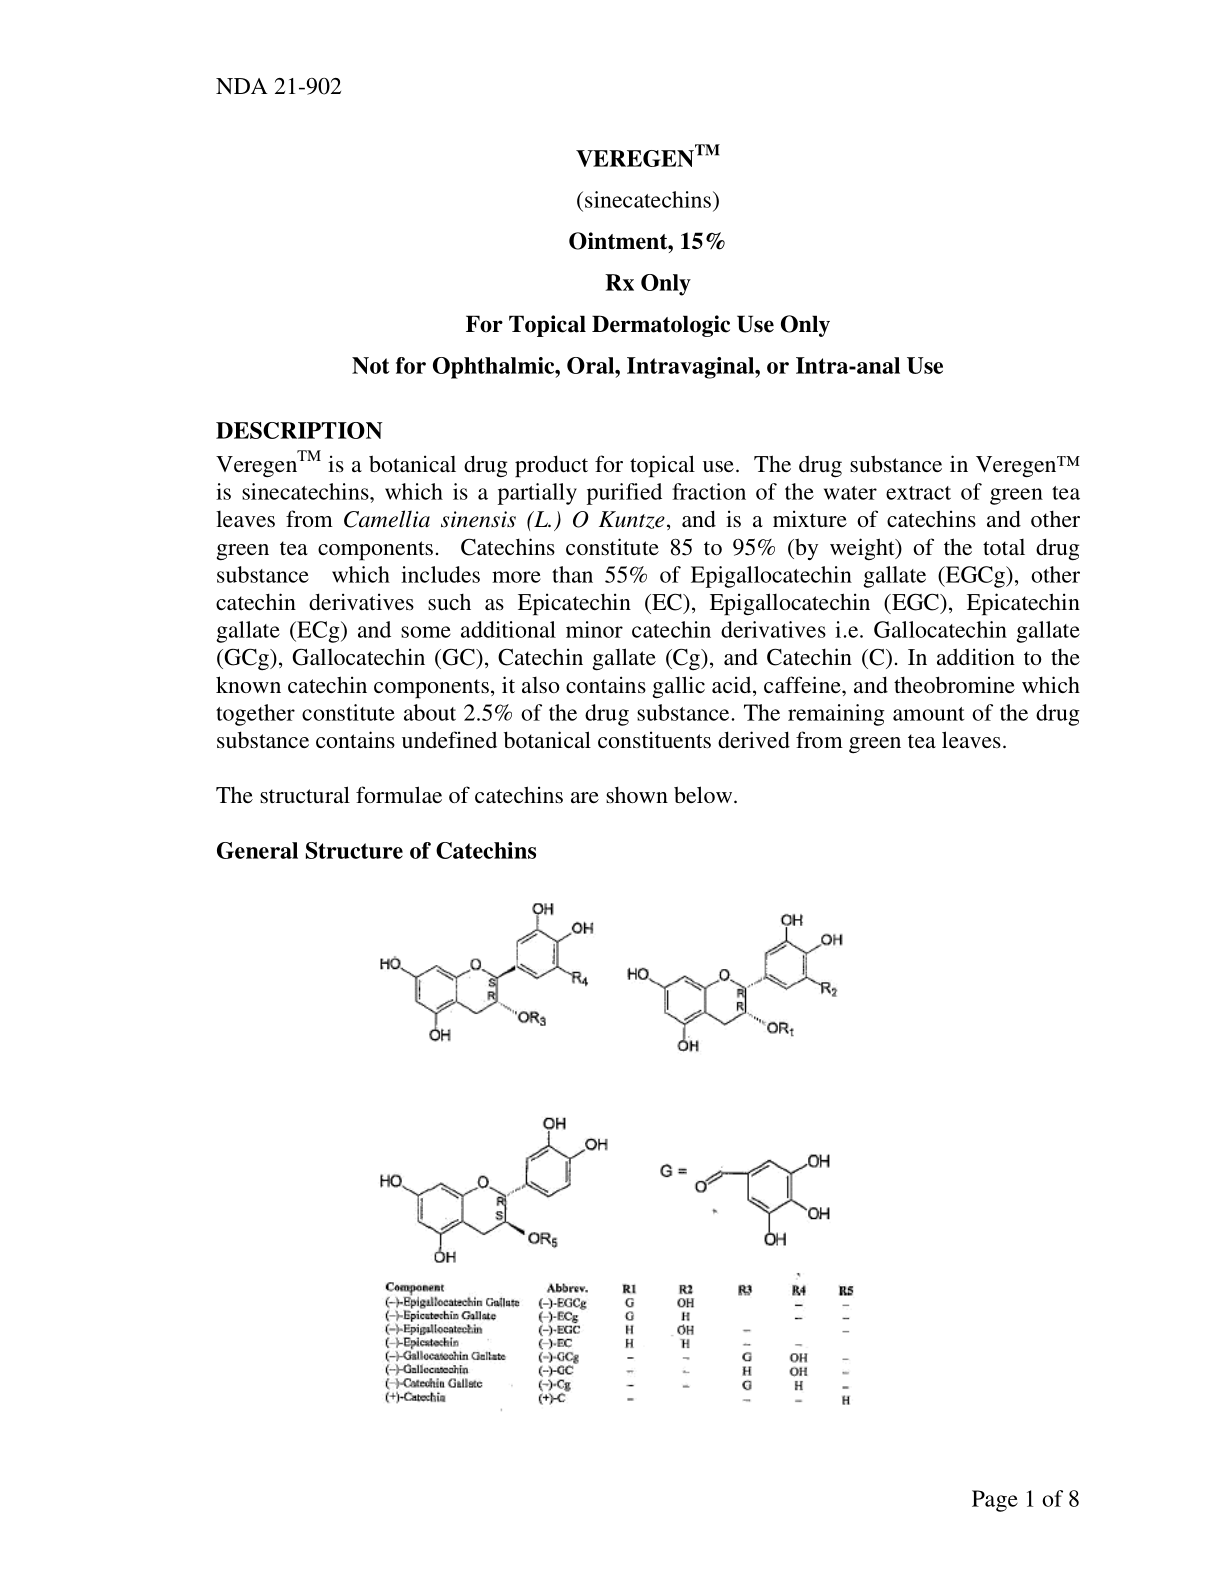nolines: (377, 1277, 859, 1416)
